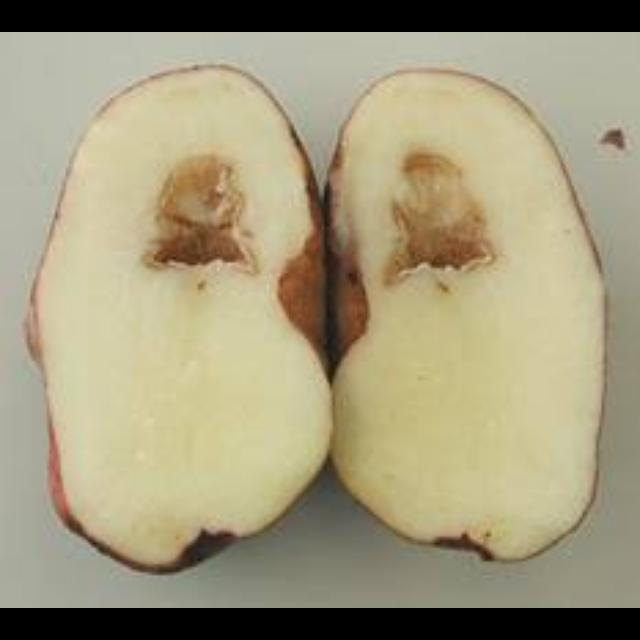Diseased-fungal potato: (27, 56, 334, 574), (324, 62, 624, 580)
